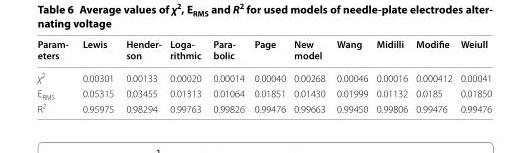table: (36, 37, 491, 114)
table column: (119, 37, 165, 114), (74, 37, 119, 114), (411, 37, 455, 114), (206, 37, 248, 114), (165, 37, 206, 114), (248, 37, 289, 114), (289, 37, 330, 114), (330, 37, 371, 114), (371, 37, 411, 114), (36, 37, 74, 114), (455, 37, 491, 114)
table column header: (36, 37, 491, 65)
table row: (36, 37, 491, 65), (36, 65, 491, 85), (36, 85, 491, 100), (36, 100, 491, 114)
